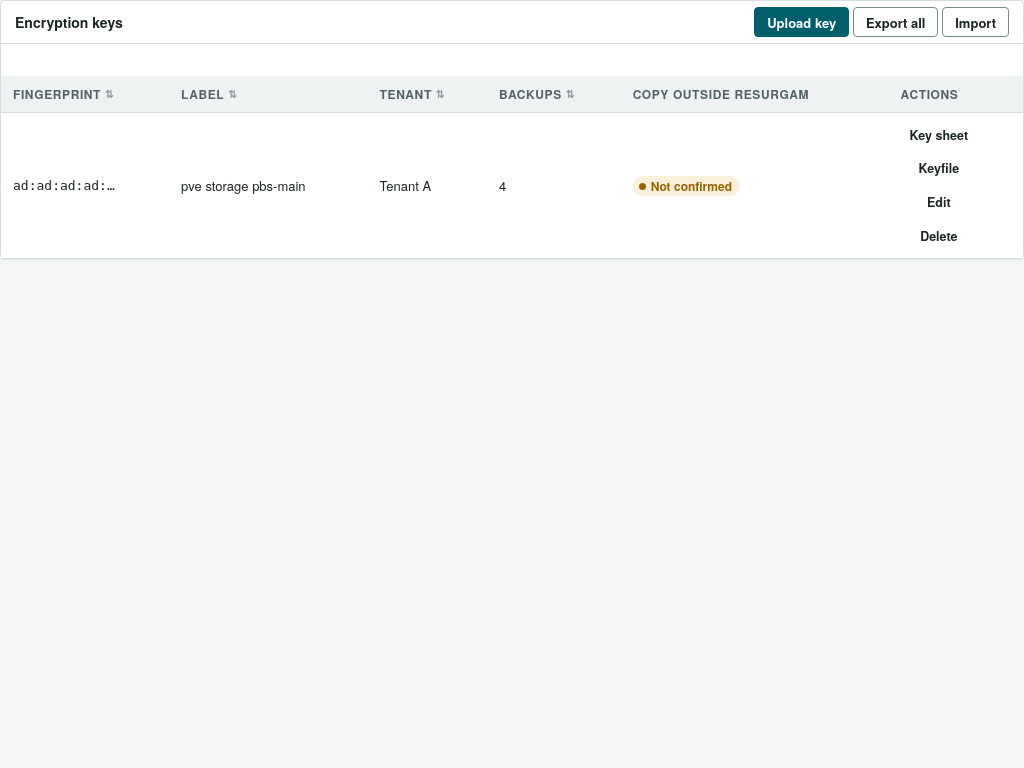
Test: EncryptionKeysPanel › downloads only after a confirmation and then records the copy
Later steps or results of the test are not shown.
Click the button "Key sheet" at (939, 135), box 901,120 -> 977,150
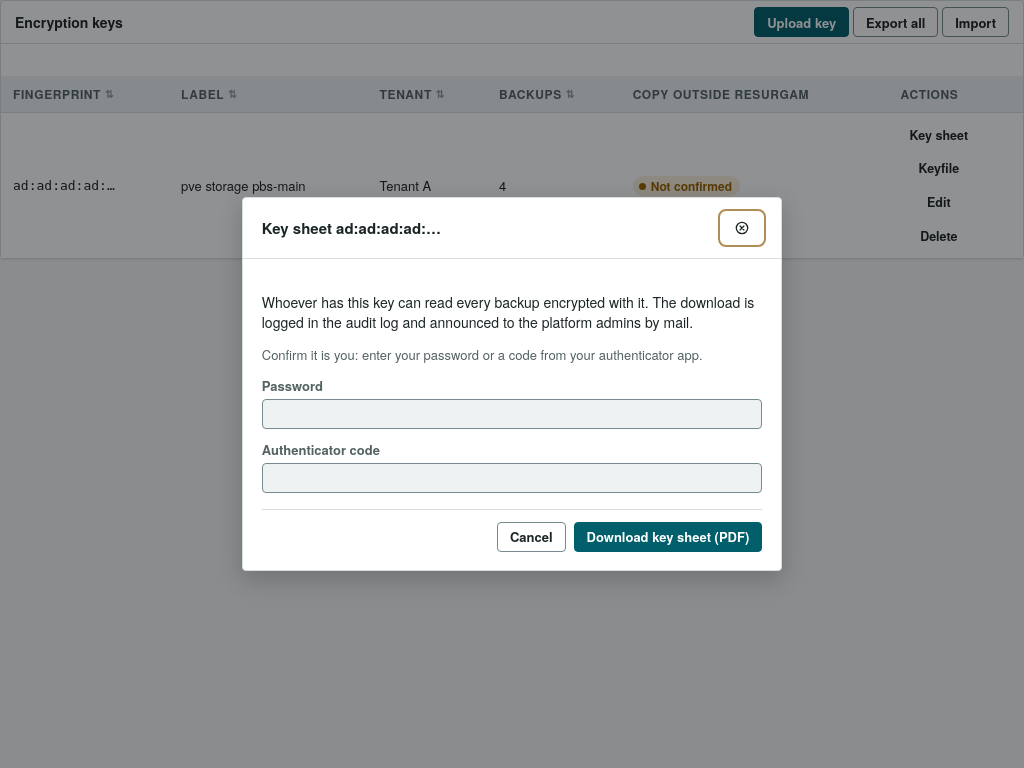
Click the button "Download key sheet (PDF)" at (668, 536), box 574,522 -> 762,552
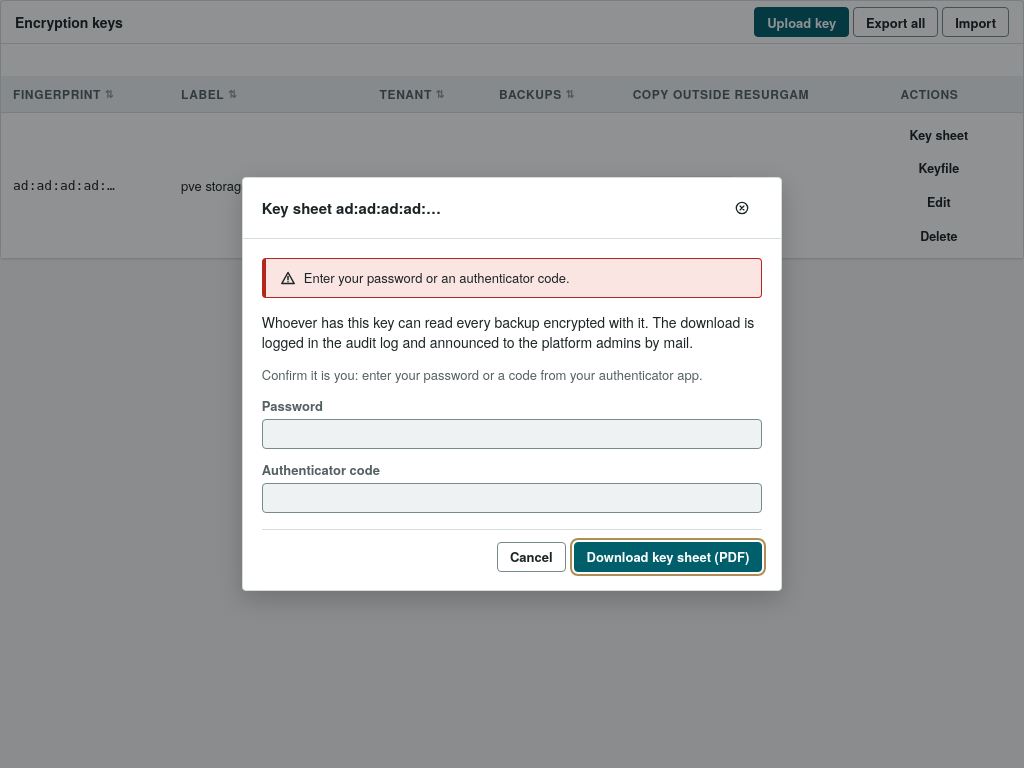
Expected: the text "Enter your password or an authenticator code." is shown, 304,268 -> 570,286
